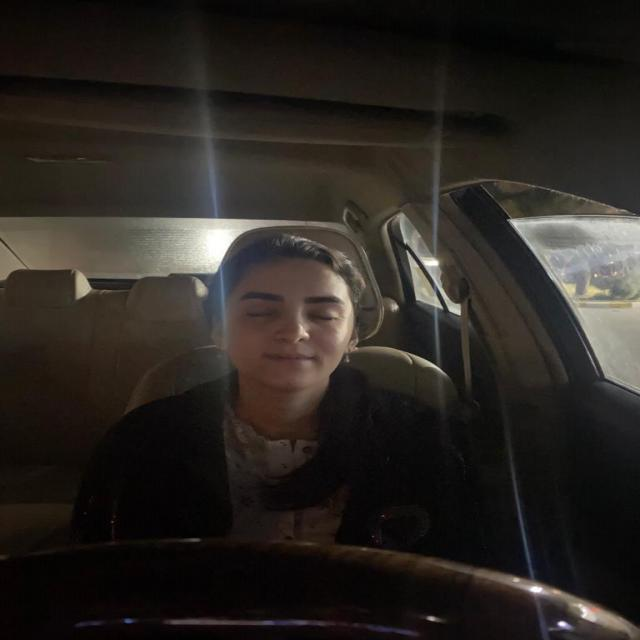drowsy: (211, 252, 365, 395)
